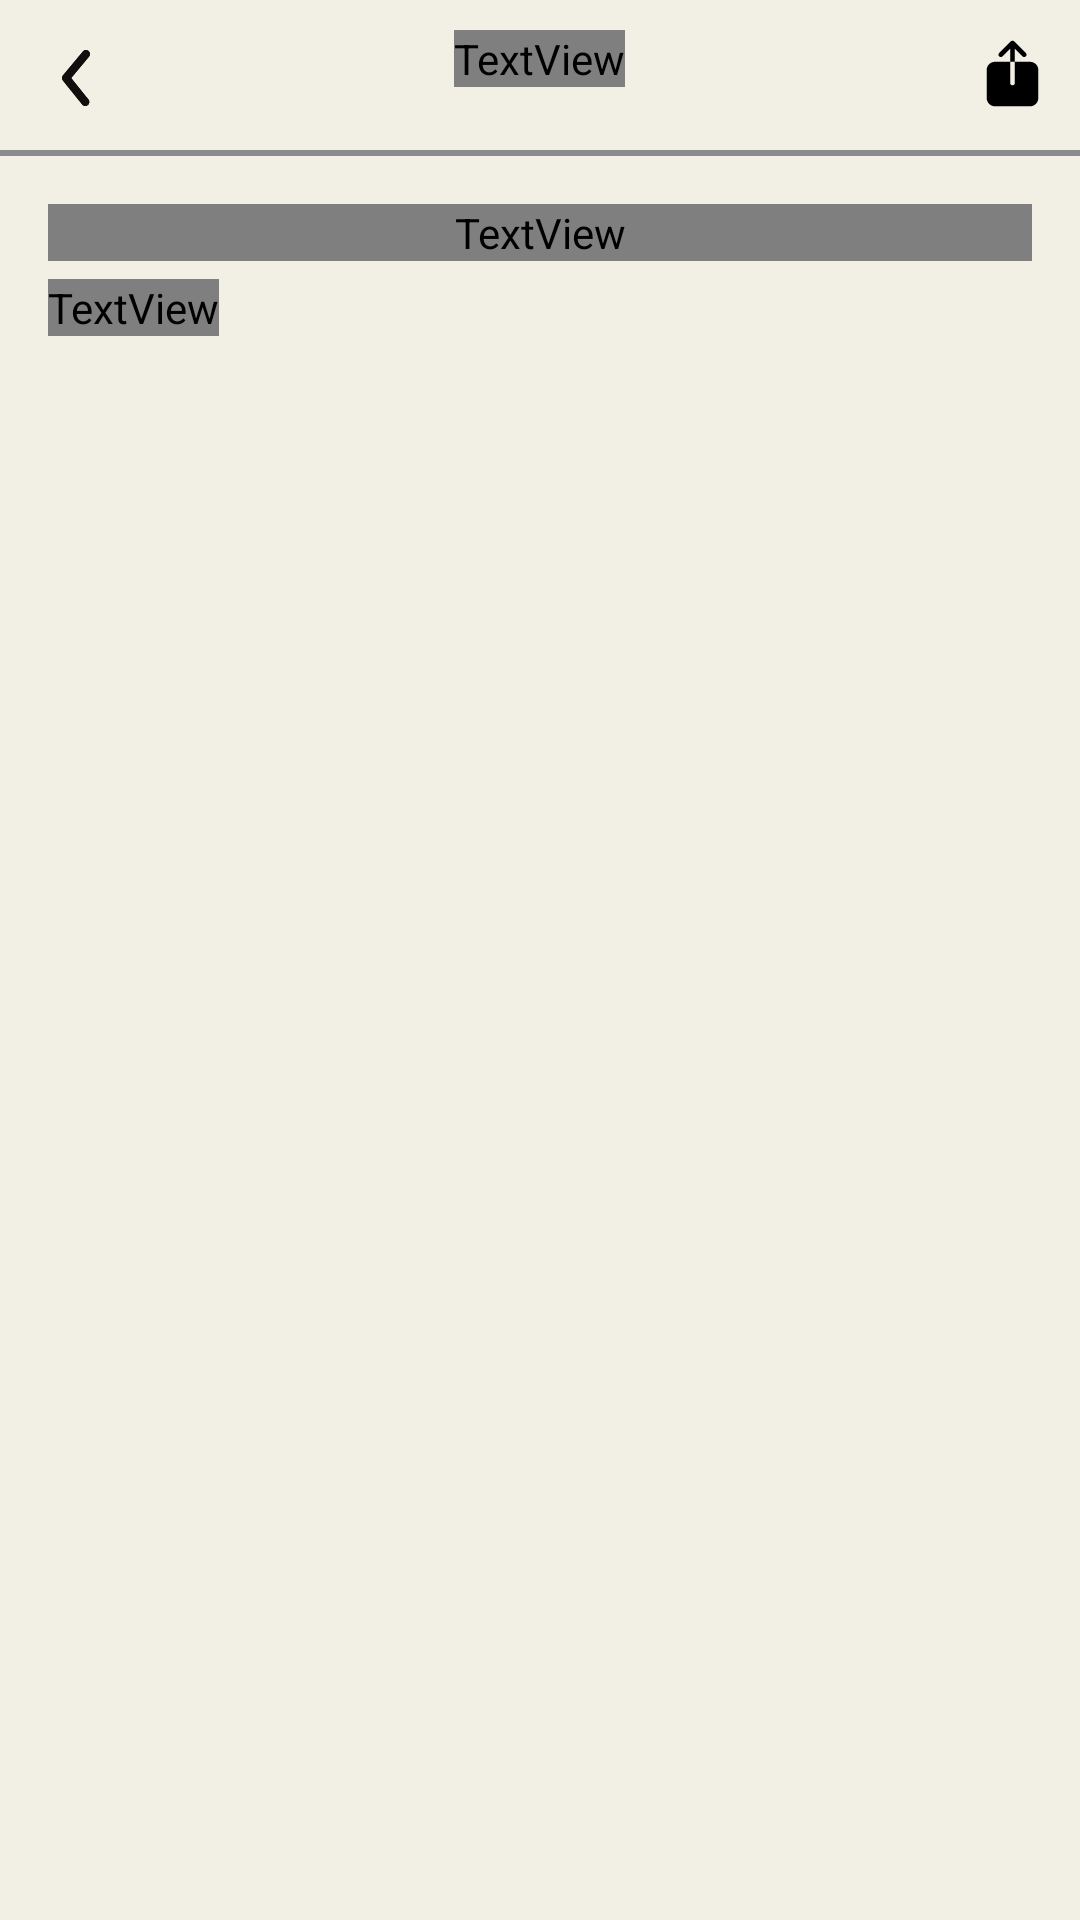

Named icons in this screenshot (1080 x 1920) and their bounding boxes, (x1, y1, x2, y2):
share: (986, 40, 1039, 107)
